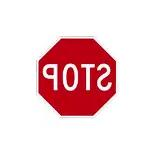Stop: (39, 38, 116, 115)
